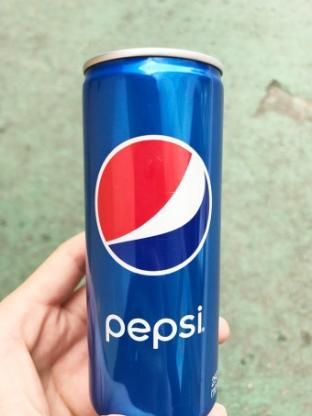Can: (79, 50, 225, 416)
